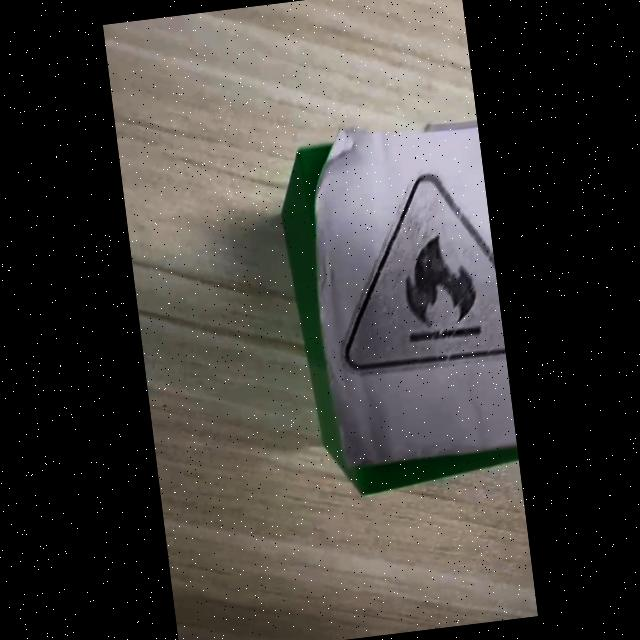Fire: (344, 173, 506, 369)
